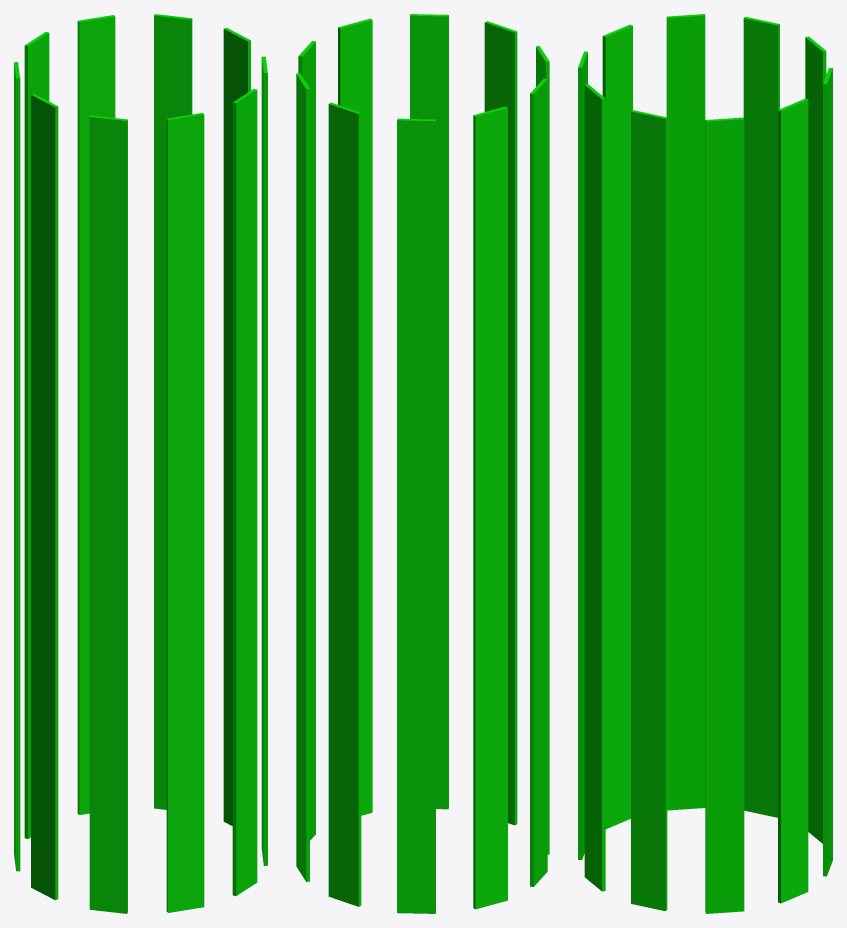
The model's file is startPath.fbx.
3 views of the same model, side by side, from view 1: azimuth 30°, elevation 25°; view 2: azimuth 150°, elevation 25°; view 3: azimuth 270°, elevation 25° (orthographic).
Parts seen in each view (by area): view 1: startPath; view 2: startPath; view 3: startPath.
Part boxes in pixels (x1,y1,x2,y2): startPath: (14,14,267,913); startPath: (296,14,549,913); startPath: (578,14,832,913).
Size of the model in its own units: 2.06 by 7.08 by 2.06.
